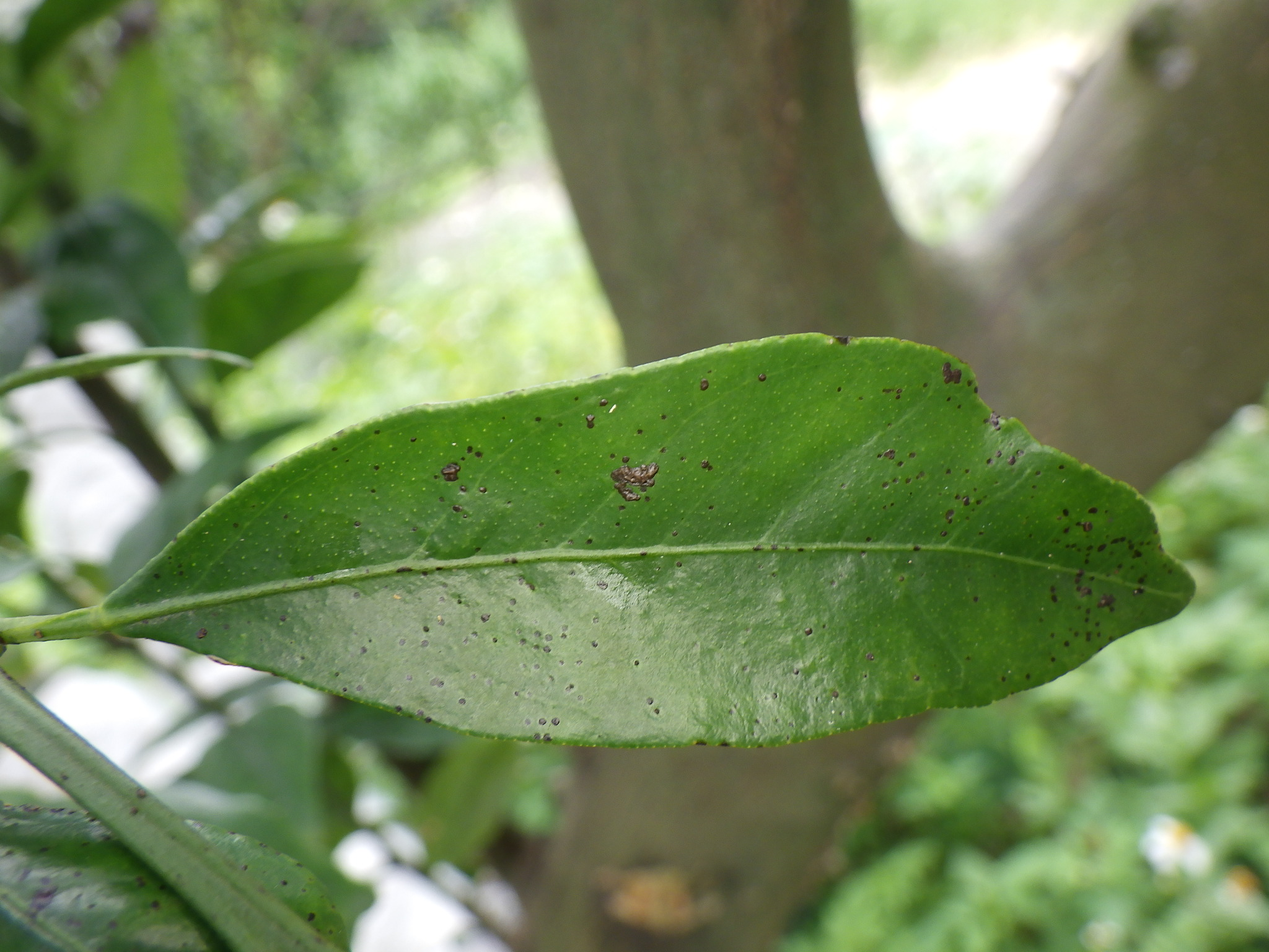Black_Spot: (5, 335, 1192, 746)
